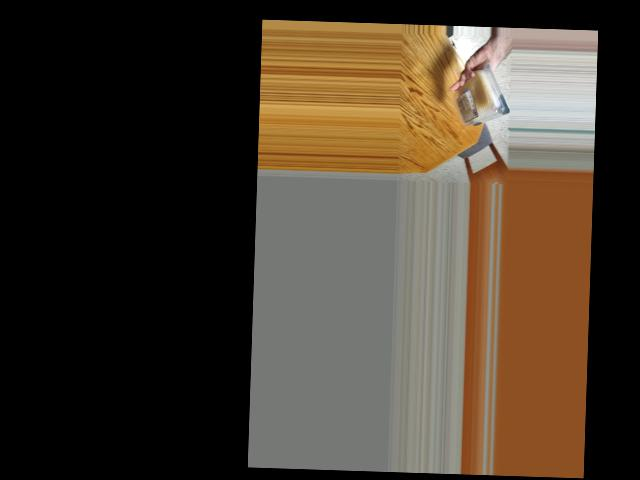cheese: (459, 67, 502, 127)
